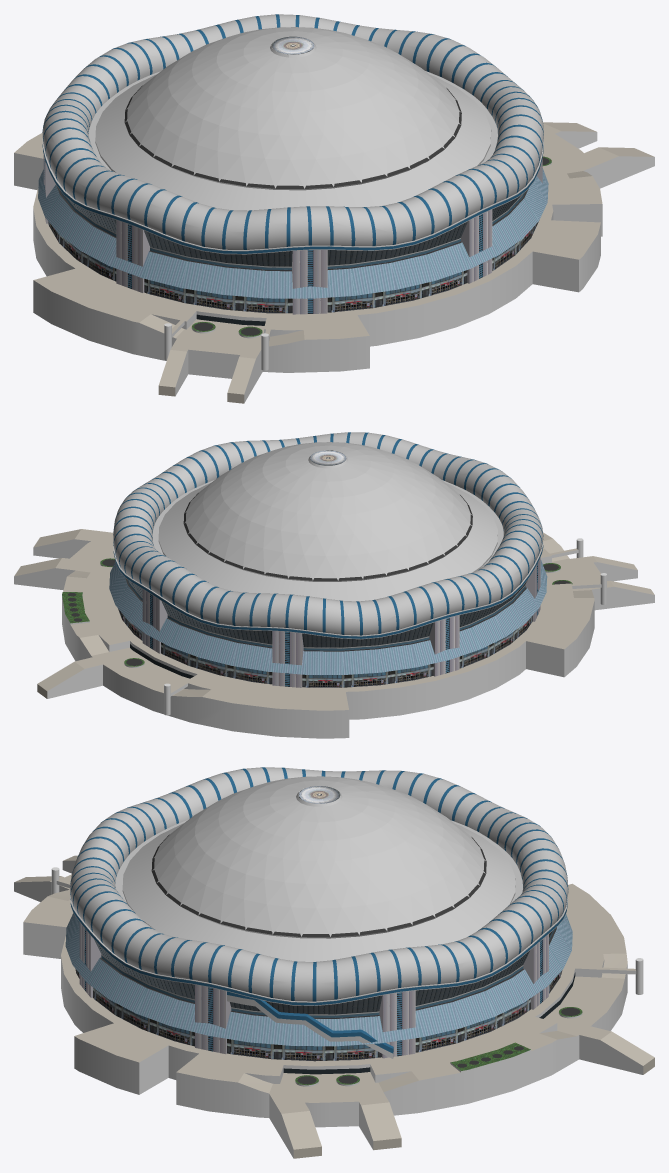
File: osakadome.dae
The picture shows the model from 3 angles, top to bottom: view 1: azimuth 30°, elevation 25°; view 2: azimuth 150°, elevation 25°; view 3: azimuth 270°, elevation 25°; orthographic projection. The views are drawn at different scales.
Visible parts, largest first — view 1: Group4, Group5, Group2, Group6, Component_2 (×3), Group_8 (×3); view 2: Group4, Group5, Group2, Group6, Component_2 (×3), Group_8 (×3); view 3: Group4, Group5, Group2, Group6, Group_8 (×4), Component_2 (×3), Group3.
Part boxes in pixels (box(x1,y1,x2,y2)): Group4: box(88, 27, 497, 210); Group5: box(14, 122, 654, 403); Group2: box(42, 14, 543, 254); Group6: box(38, 168, 548, 298); Component_2 (×3): box(48, 221, 467, 313); Group_8 (×3): box(116, 209, 492, 314); Group4: box(152, 442, 503, 601); Group5: box(14, 529, 654, 738); Group2: box(113, 432, 543, 639); Group6: box(109, 560, 547, 674); Component_2 (×3): box(161, 616, 532, 687); Group_8 (×3): box(142, 589, 459, 687); Group4: box(115, 776, 522, 961); Group5: box(14, 855, 654, 1158); Group2: box(70, 767, 568, 1005); Group6: box(65, 913, 572, 1046); Group_8 (×4): box(79, 922, 548, 1058); Component_2 (×3): box(93, 987, 530, 1061); Group3: box(227, 991, 393, 1058).
Size of the model in its own units: 282 by 256 by 85.7.
Materials: 15 (7 with a texture image).
